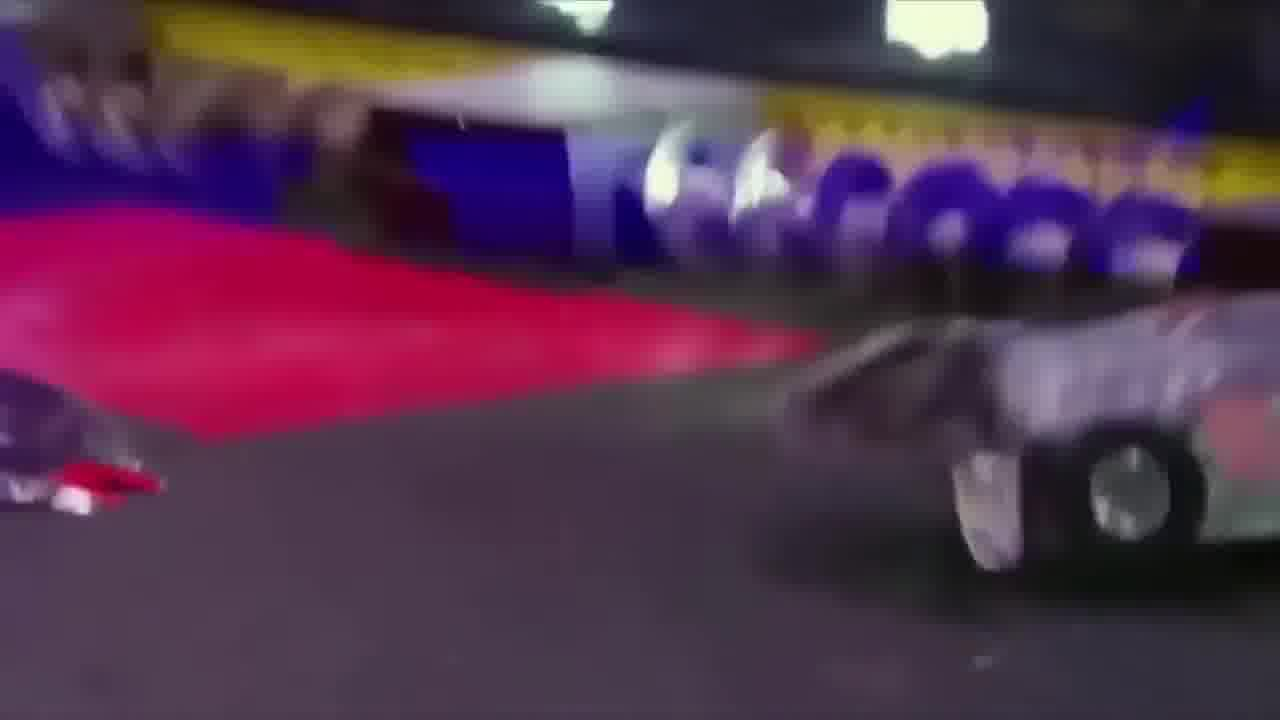combatbot: (766, 208, 1280, 576), (0, 365, 167, 522)
